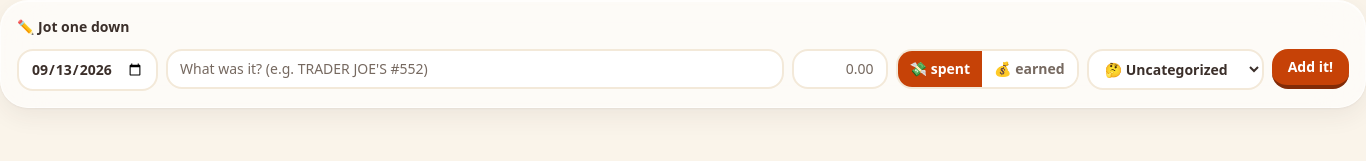
Test: TransactionForm › shows a validation error and does not submit when the amount is invalid
Step 1. Type "Mystery charge" into the field named "Description" → point(475, 69), box [166,49,784,89]
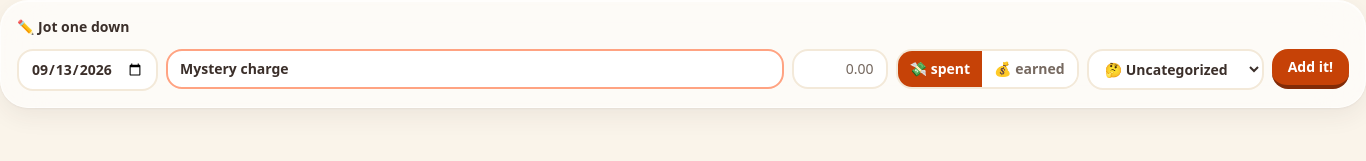
Step 2. Type "not-a-number" into the field named "Amount" → point(840, 69), box [792,49,888,89]
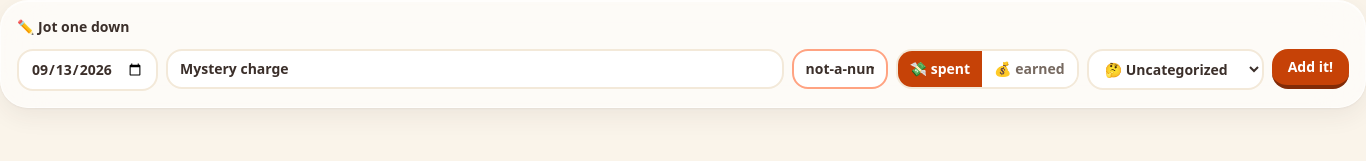
Step 3. Click the button "Add it!" → point(1310, 69), box [1272,49,1349,89]
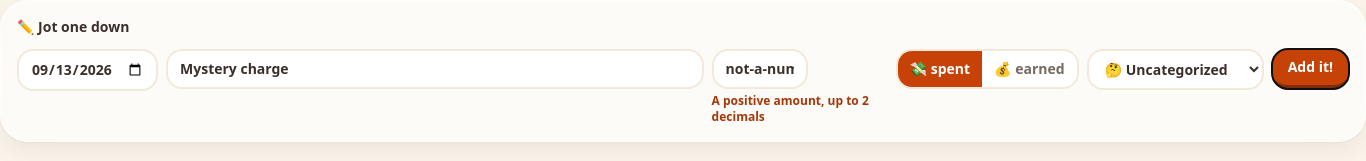
Expected: the text "A positive amount, up to 2 decimals" is shown, [712,93,888,125]
